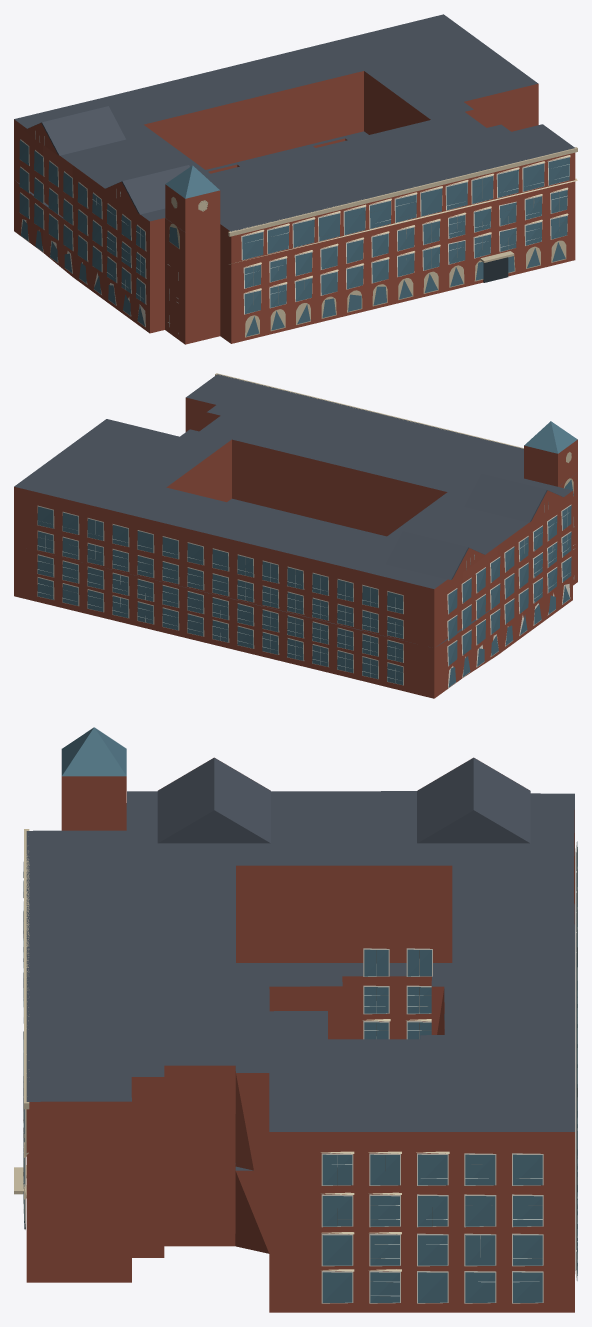
File: studiok.lod1.glb
3 views of the same model, one above another, from view 1: azimuth 30°, elevation 25°; view 2: azimuth 150°, elevation 25°; view 3: azimuth 270°, elevation 25° (orthographic). The views are drawn at different scales.
Visible parts, largest first — view 1: studiok; view 2: studiok; view 3: studiok.
Part boxes in pixels (x1,y1,x2,y2): studiok: (14,14,577,344); studiok: (14,373,577,698); studiok: (14,727,577,1312).
Bounding box in the file's own units: 75.27 × 27.61 × 52.16.
